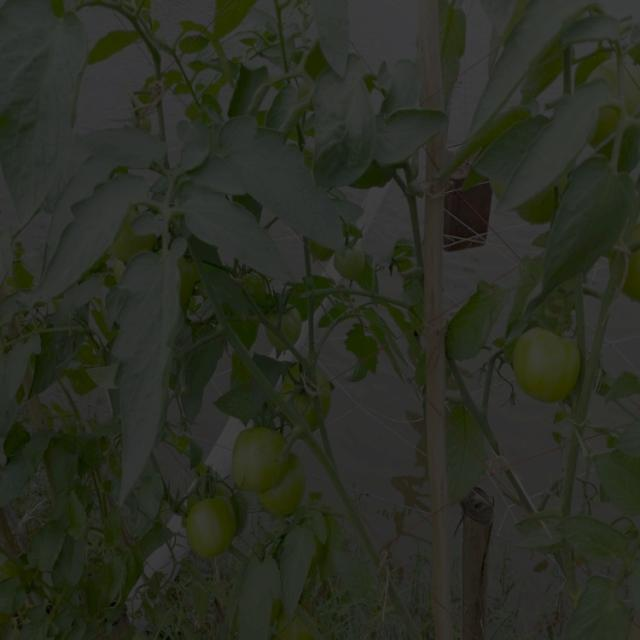tomato: (515, 328, 583, 405), (187, 491, 246, 562), (231, 427, 292, 485), (262, 455, 310, 516), (274, 604, 321, 640), (286, 365, 311, 411), (622, 244, 640, 299), (274, 311, 304, 340), (336, 246, 365, 272)
